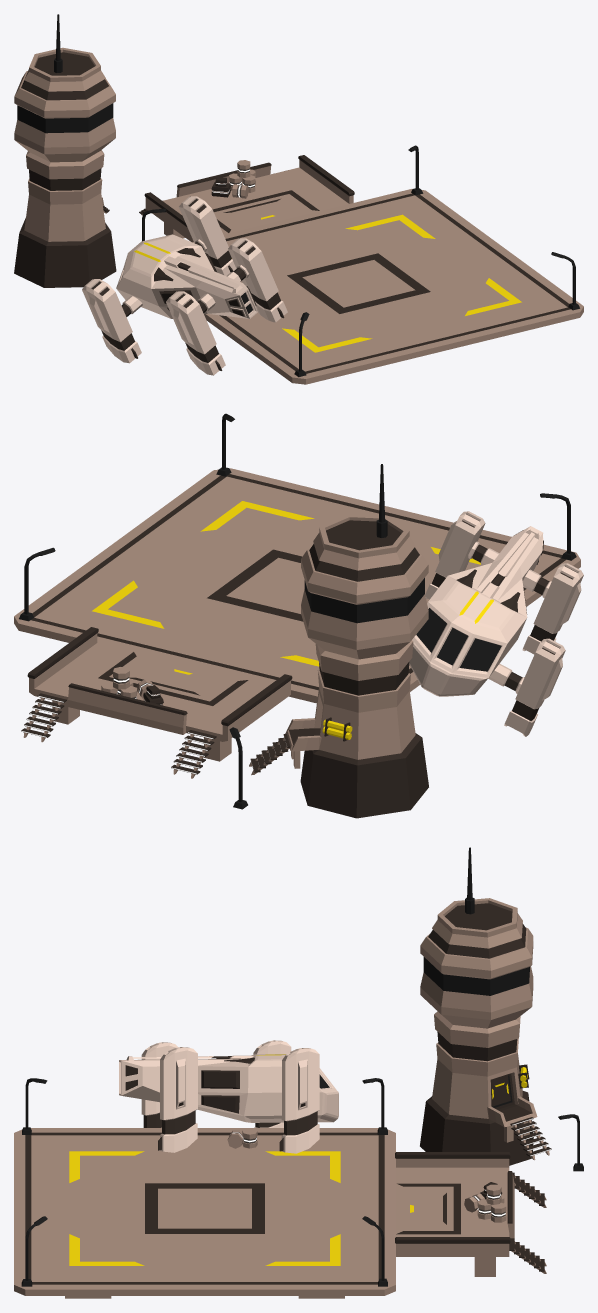
File: outpost_b.glb
3 views of the same model, one above another, from view 1: azimuth 30°, elevation 25°; view 2: azimuth 150°, elevation 25°; view 3: azimuth 270°, elevation 25° (orthographic). The views are drawn at different scales.
Parts seen in each view (by area): view 1: outpost_b_mesh; view 2: outpost_b_mesh; view 3: outpost_b_mesh.
Boxes of the visible parts, box(x1,y1,x2,y2) form: outpost_b_mesh: box(14, 14, 583, 384); outpost_b_mesh: box(14, 413, 583, 818); outpost_b_mesh: box(14, 847, 583, 1298).
Size of the model in its own units: 25.64 by 17.4 by 28.85.
